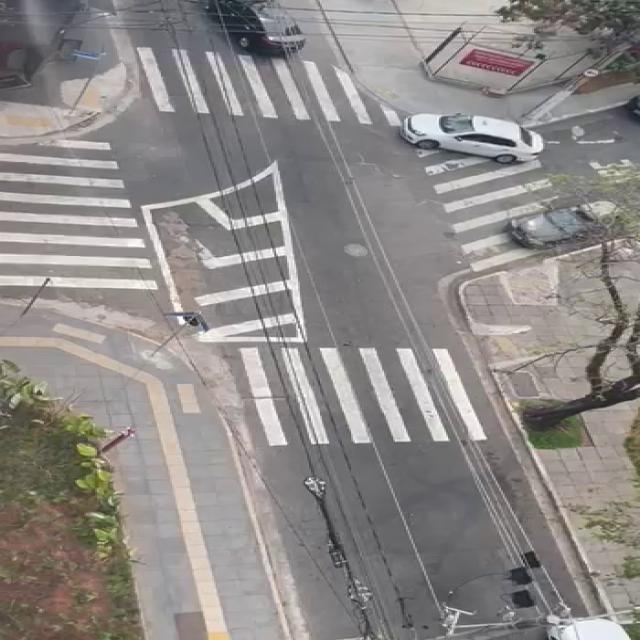car: (390, 108, 560, 164), (494, 197, 626, 254), (199, 0, 321, 56), (534, 613, 640, 640)
